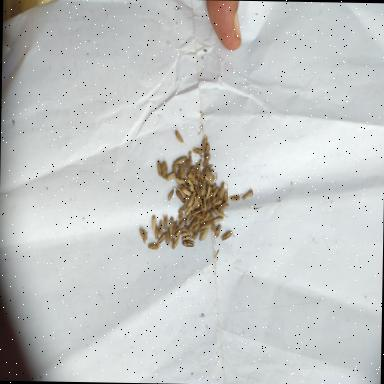pbw: (188, 172, 198, 186), (199, 228, 209, 242), (220, 231, 232, 242), (200, 220, 213, 230), (188, 192, 196, 208), (139, 228, 148, 242), (205, 172, 217, 182), (202, 164, 214, 174), (218, 182, 225, 198), (176, 130, 184, 144), (174, 228, 182, 242), (214, 210, 228, 218), (243, 191, 254, 201), (216, 202, 228, 211), (176, 191, 185, 203), (162, 162, 168, 180), (182, 240, 195, 248), (202, 155, 210, 168), (214, 225, 222, 238), (203, 176, 213, 186), (172, 237, 180, 249), (176, 156, 188, 164), (200, 180, 206, 196), (177, 220, 185, 232), (162, 214, 168, 230), (192, 228, 200, 240), (148, 243, 161, 250), (202, 136, 209, 149), (180, 163, 186, 178), (204, 210, 213, 220), (184, 206, 192, 217), (192, 223, 200, 234), (190, 208, 201, 216), (166, 173, 177, 181), (158, 233, 166, 244), (156, 162, 162, 176), (194, 186, 200, 200), (192, 148, 204, 155), (154, 226, 160, 240), (172, 164, 178, 178), (187, 179, 195, 189), (176, 188, 186, 196), (212, 188, 220, 198), (178, 209, 183, 225), (214, 199, 224, 207), (185, 212, 191, 225), (205, 144, 210, 159), (188, 185, 196, 194), (191, 218, 200, 226), (168, 189, 174, 201), (213, 217, 224, 223), (195, 195, 200, 208), (206, 186, 211, 199), (152, 216, 156, 232), (174, 220, 178, 236), (166, 230, 170, 246), (186, 160, 190, 175), (176, 178, 186, 184), (224, 190, 229, 202), (230, 195, 240, 201), (159, 220, 163, 235), (184, 226, 190, 236), (188, 156, 192, 170), (212, 220, 216, 234), (203, 198, 207, 212), (196, 163, 200, 177), (178, 185, 187, 191), (170, 217, 174, 230), (181, 232, 191, 237), (212, 196, 216, 208), (198, 187, 202, 199), (200, 200, 204, 212), (190, 165, 195, 174), (170, 226, 173, 241), (182, 236, 191, 241), (186, 195, 190, 206), (182, 205, 188, 212), (198, 160, 202, 170), (200, 172, 204, 182), (174, 162, 180, 168), (206, 199, 210, 208), (212, 184, 216, 193), (198, 179, 202, 187), (178, 170, 180, 184), (208, 204, 212, 210), (198, 215, 204, 219)
